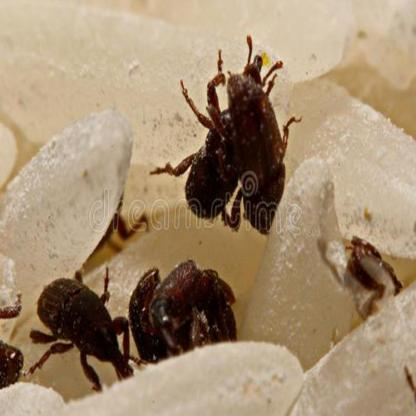rice-bug: (186, 61, 286, 226), (134, 258, 236, 366), (40, 268, 126, 394), (346, 232, 399, 307), (0, 341, 24, 390)
